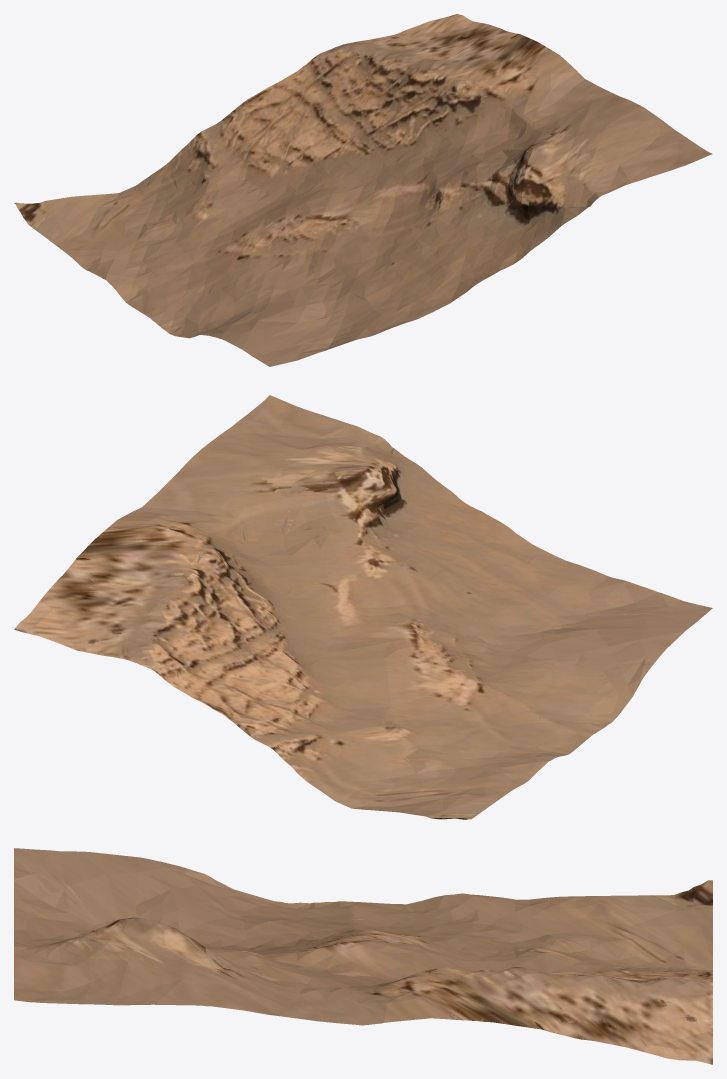
The picture shows the model from 3 angles, top to bottom: view 1: azimuth 30°, elevation 25°; view 2: azimuth 150°, elevation 25°; view 3: azimuth 270°, elevation 25°; orthographic projection. The views are drawn at different scales.
Size of the model in its own units: 1.04 by 0.3287 by 1.04.
Materials: 2 (2 with a texture image).
